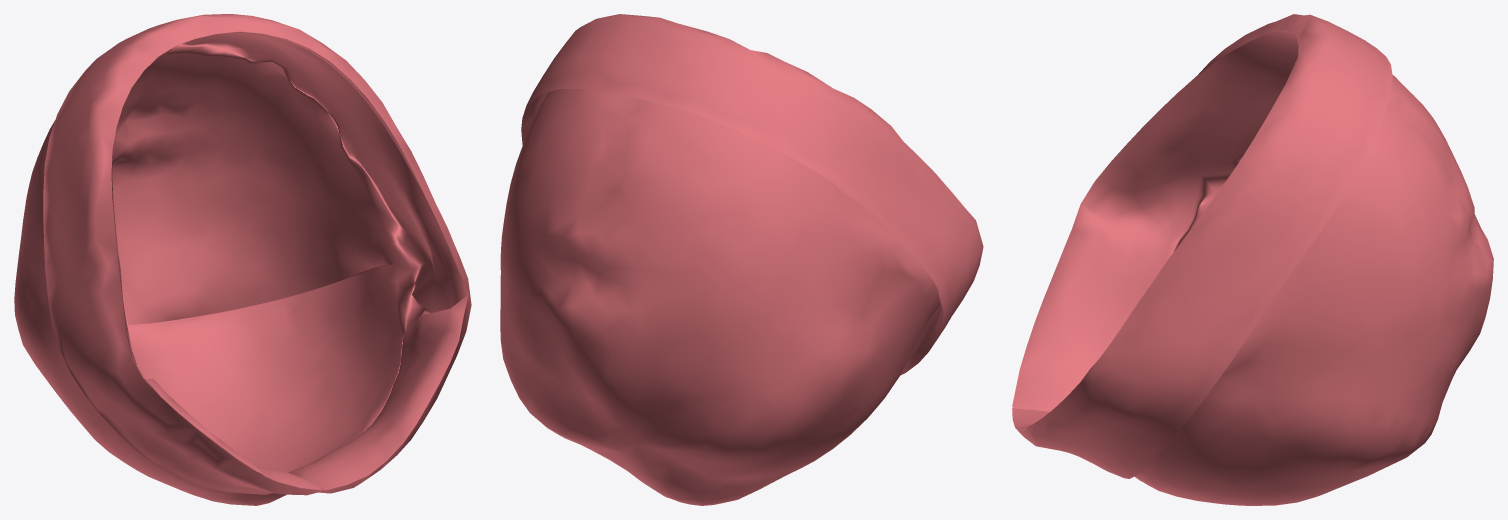
The model's file is female_fat_aGhGCPf.glb.
The picture shows the model from 3 angles, left to right: view 1: azimuth 30°, elevation 25°; view 2: azimuth 150°, elevation 25°; view 3: azimuth 270°, elevation 25°; orthographic projection. The views are drawn at different scales.
Parts seen in each view (by area): view 1: female_fat; view 2: female_fat; view 3: female_fat.
Part boxes in pixels (x1,y1,x2,y2): female_fat: [14, 14, 471, 505]; female_fat: [500, 14, 983, 505]; female_fat: [1012, 14, 1493, 505].
Size of the model in its own units: 0.178 by 0.2027 by 0.1886.
